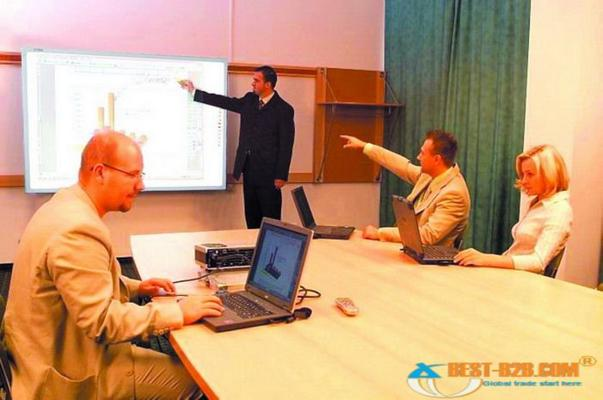person: (182, 68, 297, 229)
